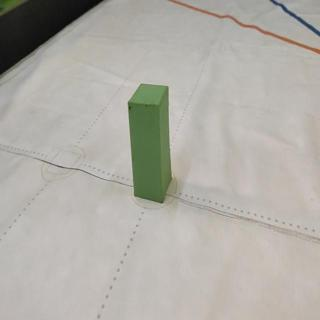greenbox: (128, 83, 172, 203)
